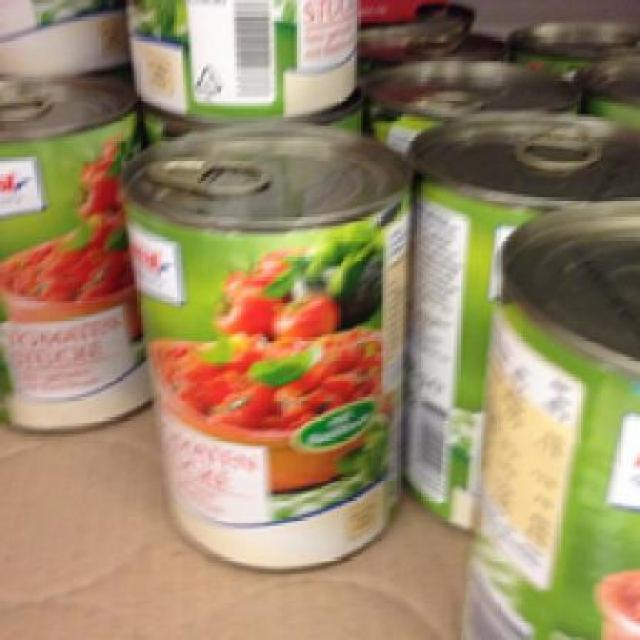Tomato Sauce: (114, 123, 406, 572), (448, 194, 634, 637), (0, 72, 146, 434)
